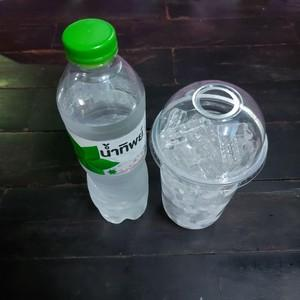bottle: (53, 13, 151, 230)
